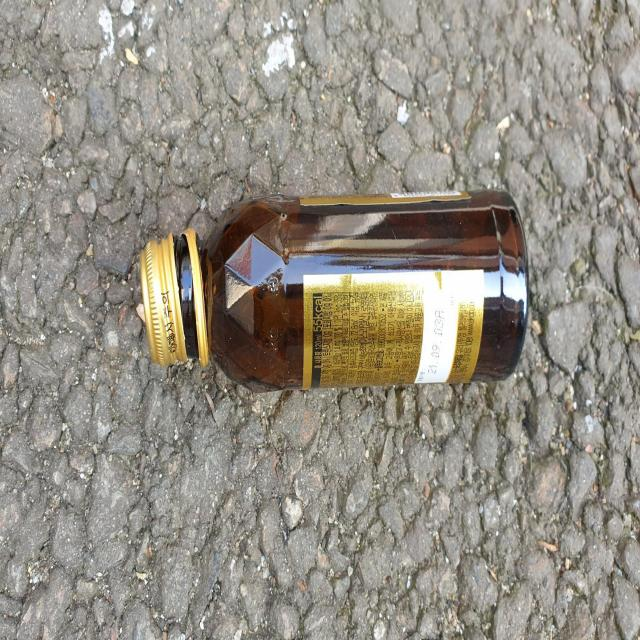glass: (141, 190, 529, 389)
